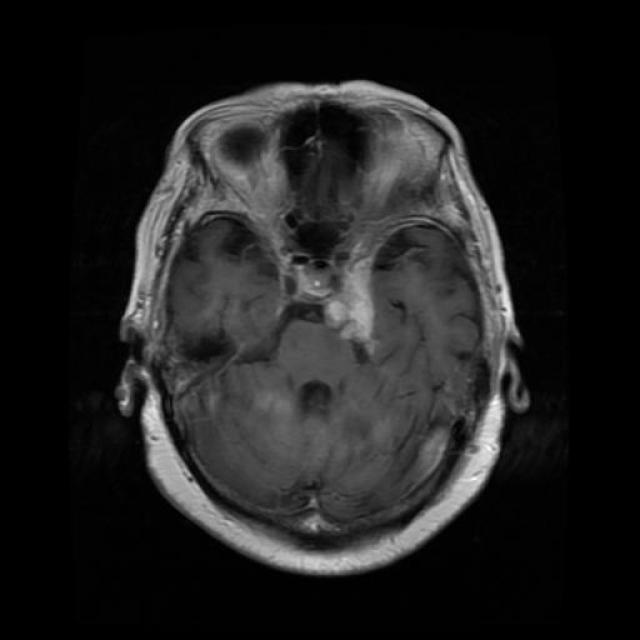meningioma: (328, 264, 372, 341)
